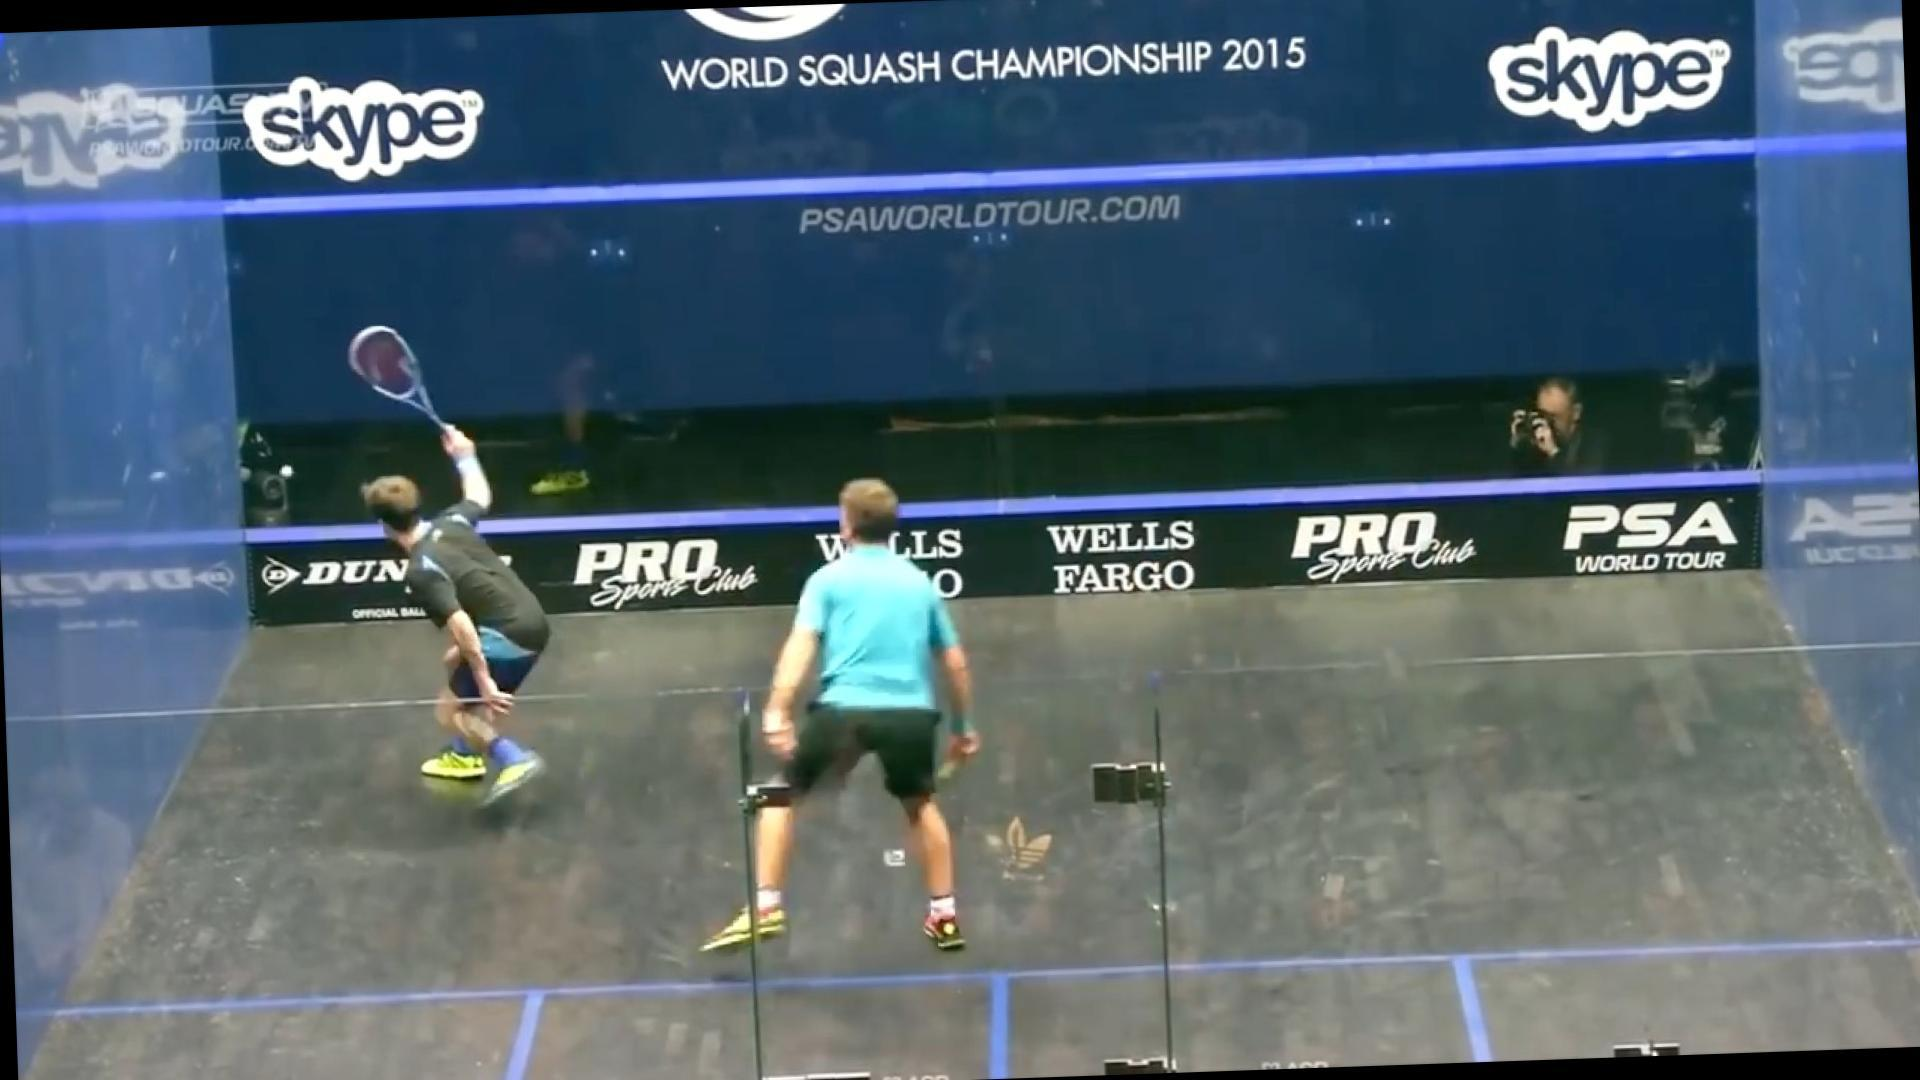Squash-Ball: (266, 440, 311, 505)
